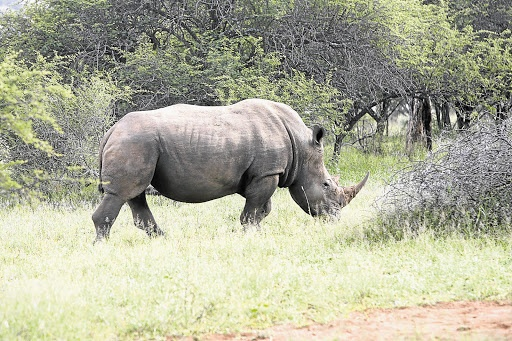rhino: (91, 96, 369, 237)
